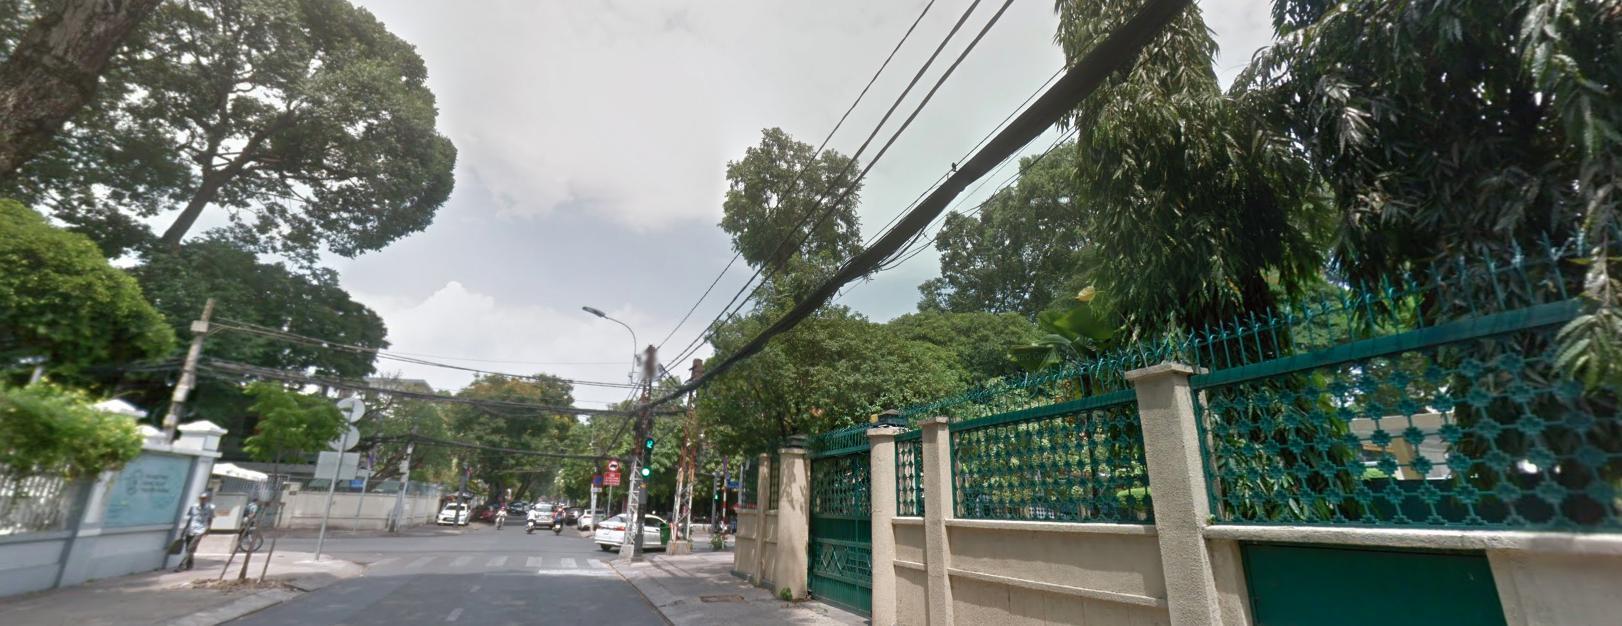Cam con lai: (607, 457, 619, 470)
Cam dung va do: (592, 473, 604, 486)
